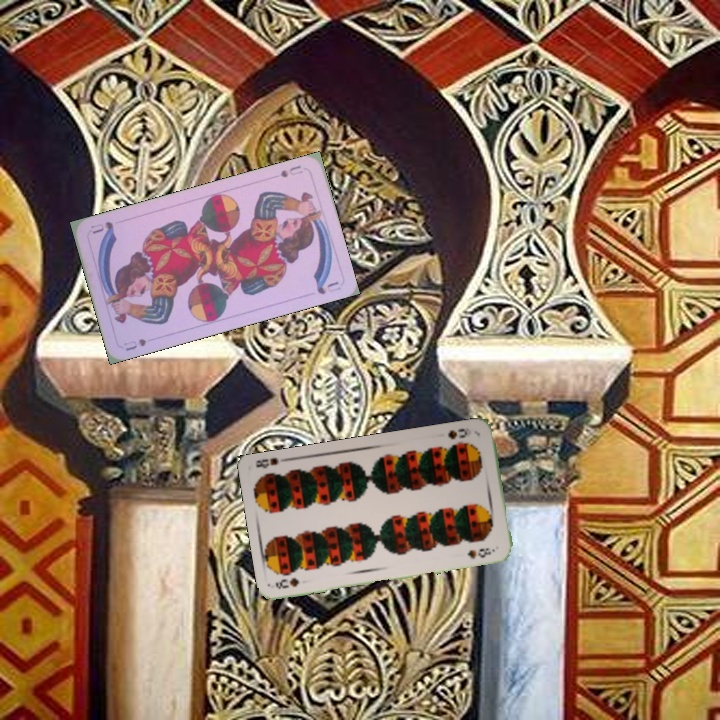S8: (271, 573, 302, 591), (444, 423, 471, 442)
SU: (120, 334, 149, 354), (276, 161, 305, 180)
